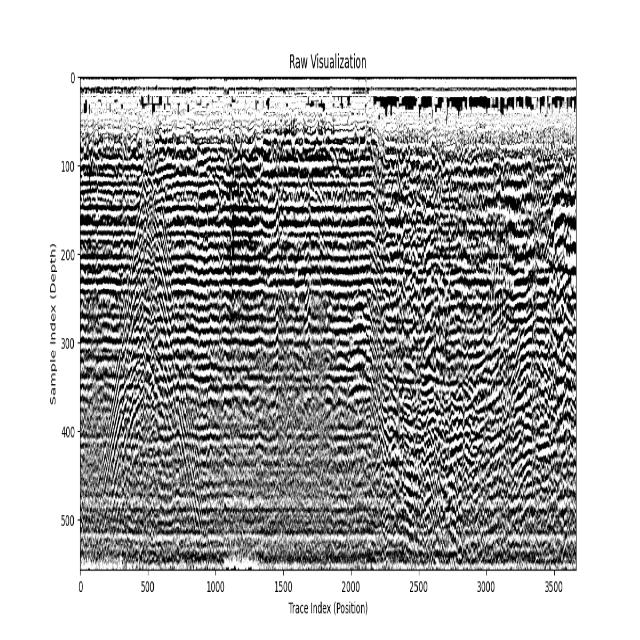anomaly: (103, 173, 196, 536), (425, 316, 567, 536)
